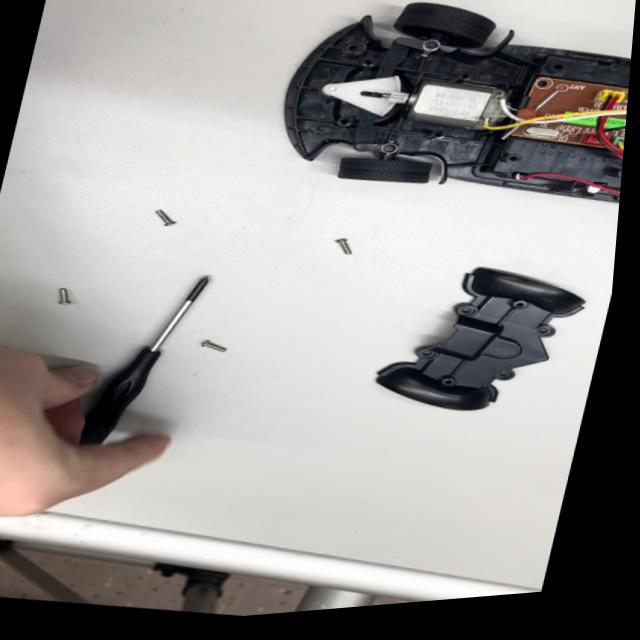Chassis: (238, 0, 639, 241)
motor: (365, 55, 531, 150)
motor_cover: (354, 240, 602, 441)
screw: (320, 227, 369, 265), (141, 201, 188, 240), (192, 331, 239, 364), (41, 280, 80, 314)
screw_driver: (39, 250, 224, 476)
wheel: (383, 0, 510, 63), (326, 146, 435, 204)
